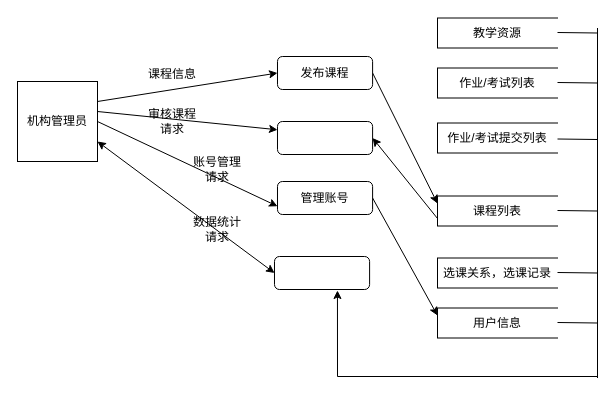
Image size: 616x402. Some labels were removed from this diagram. Here are the shapes that lost their labels. From the top down, the centre of each, then its label:
At pixel 324 137: "审核课程".
At pixel 322 273: "数据统计".
